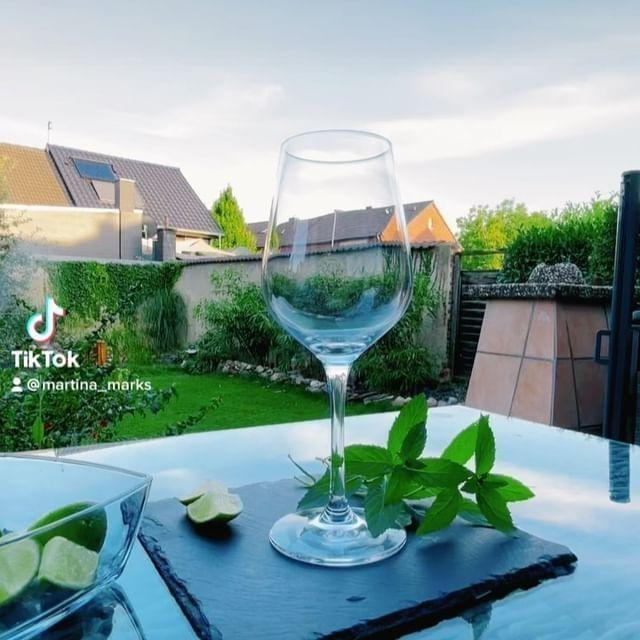glass-wine: (258, 125, 417, 573)
